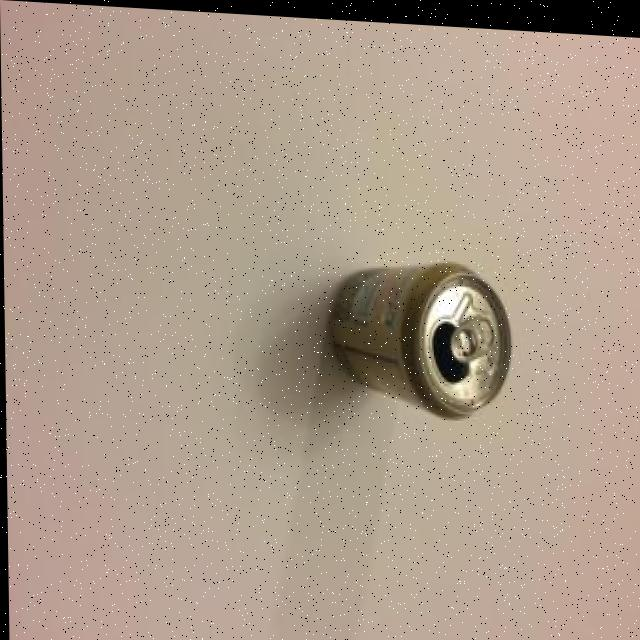metal: (317, 242, 519, 420)
